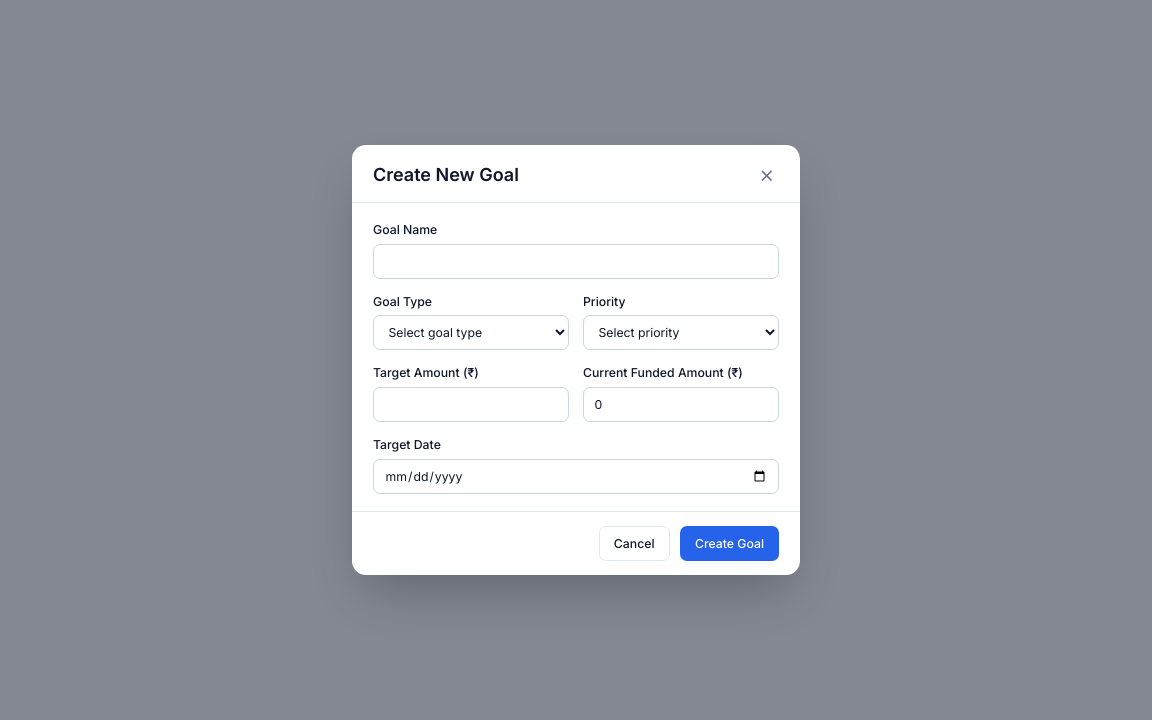
Scenario: GoalFormModal — Create mode › shows validation error for target_amount <= 0
Step 1. Type "My Goal" into the field labelled "Goal Name" → [576, 261], box [373,244,779,278]
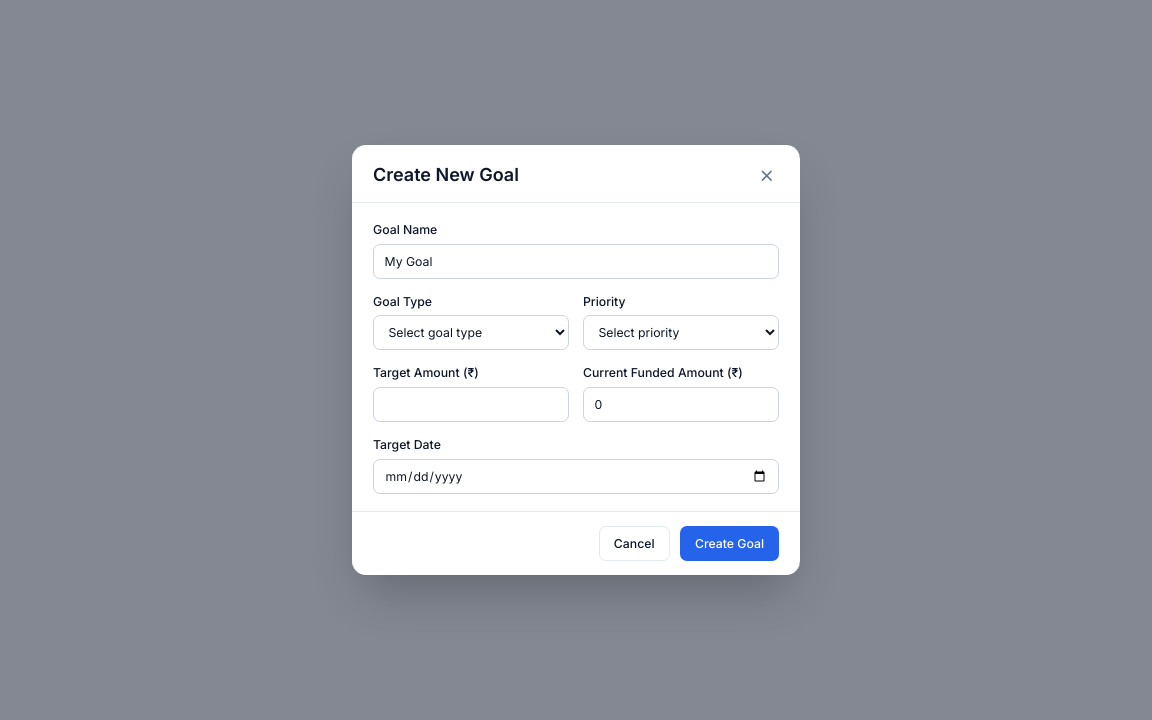
Step 2. Type "-100" into the number field labelled "Target Amount (₹)" → [471, 404], box [373,387,569,422]
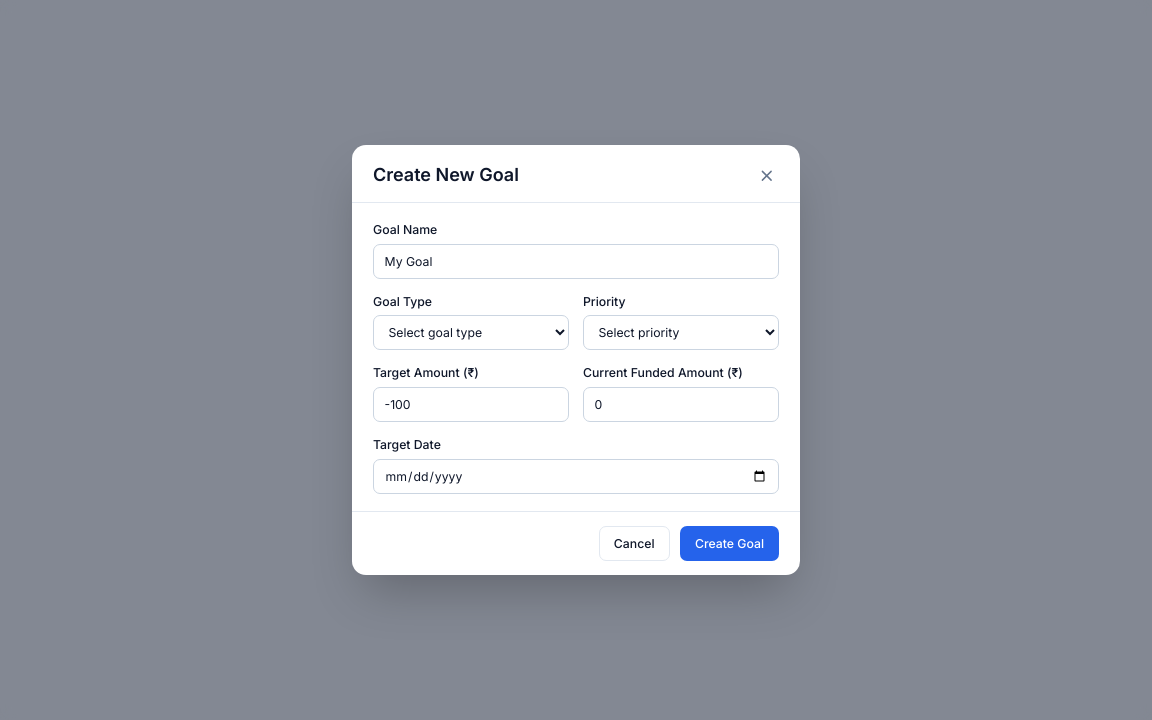
Step 3. Click the button "Create Goal" → [730, 544], box [680,526,779,561]
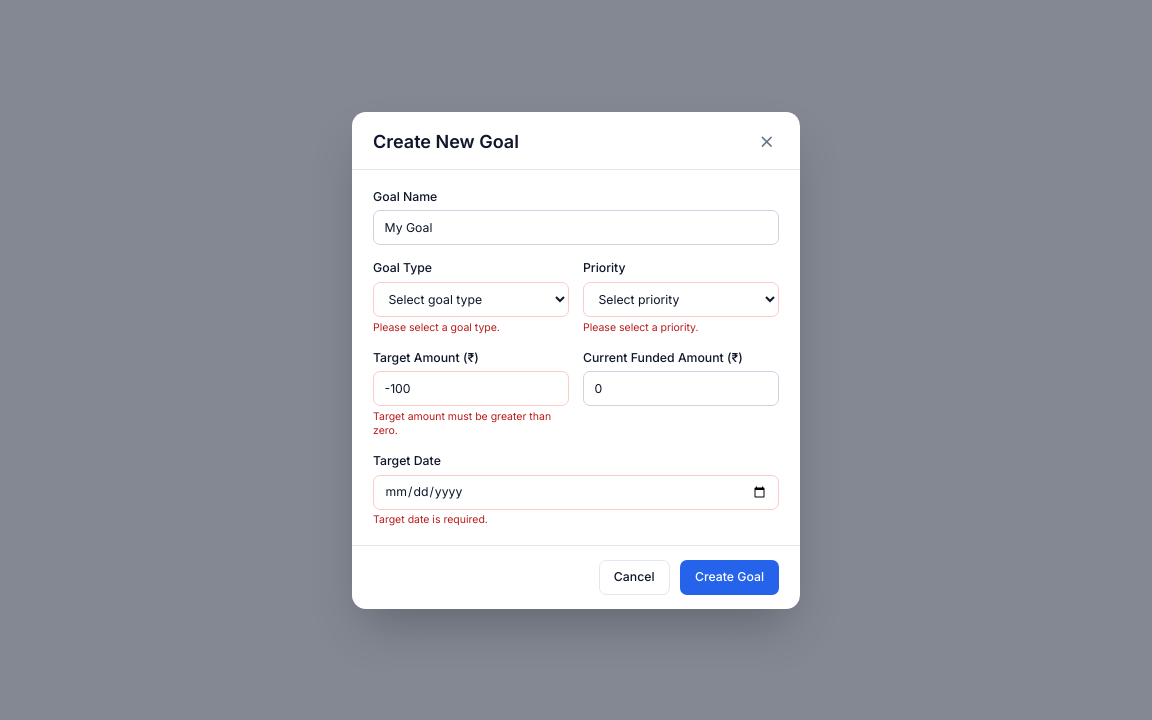
Expected: the text "Target amount must be greater than zero." is shown, [373,410,569,438]
